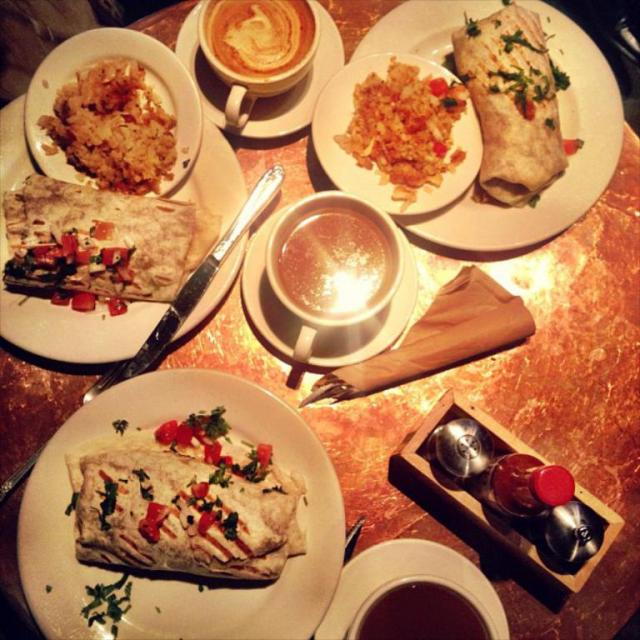latte: (196, 2, 322, 80)
